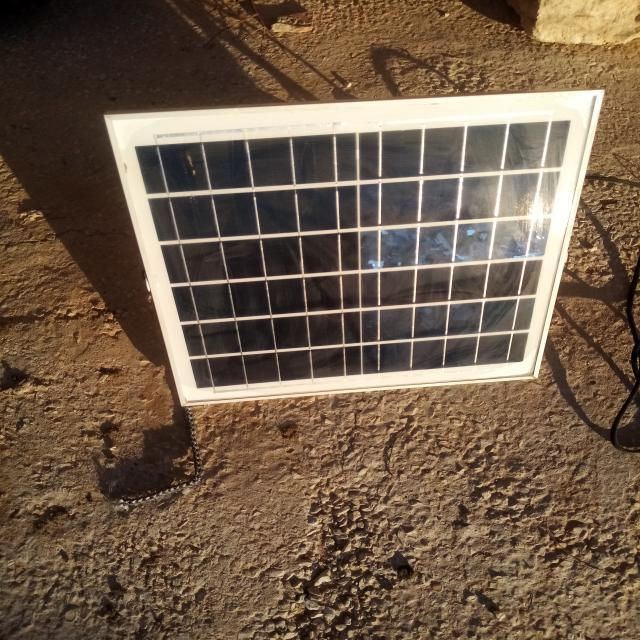faulty: (115, 89, 603, 402)
